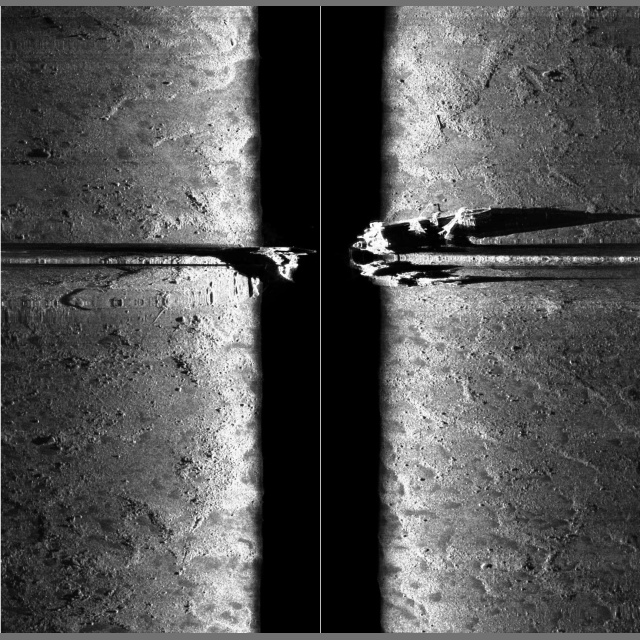Shipwreck: (149, 115, 492, 325)
